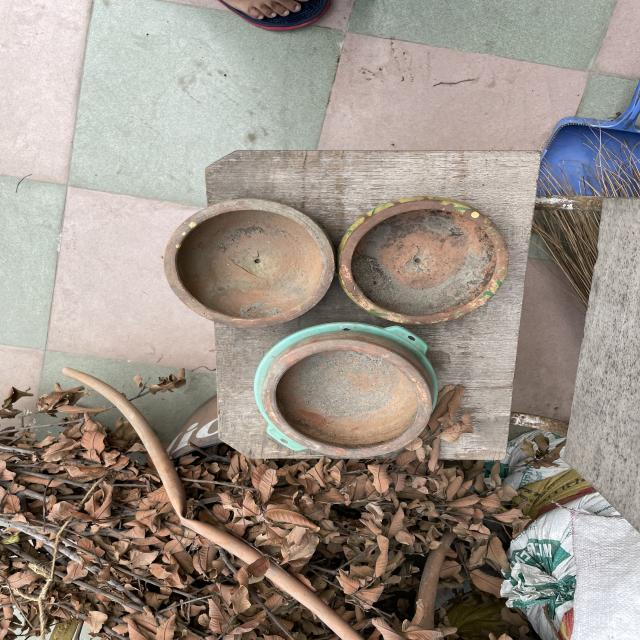Breeding Place: (258, 328, 440, 466), (156, 198, 330, 322), (345, 196, 510, 320)
